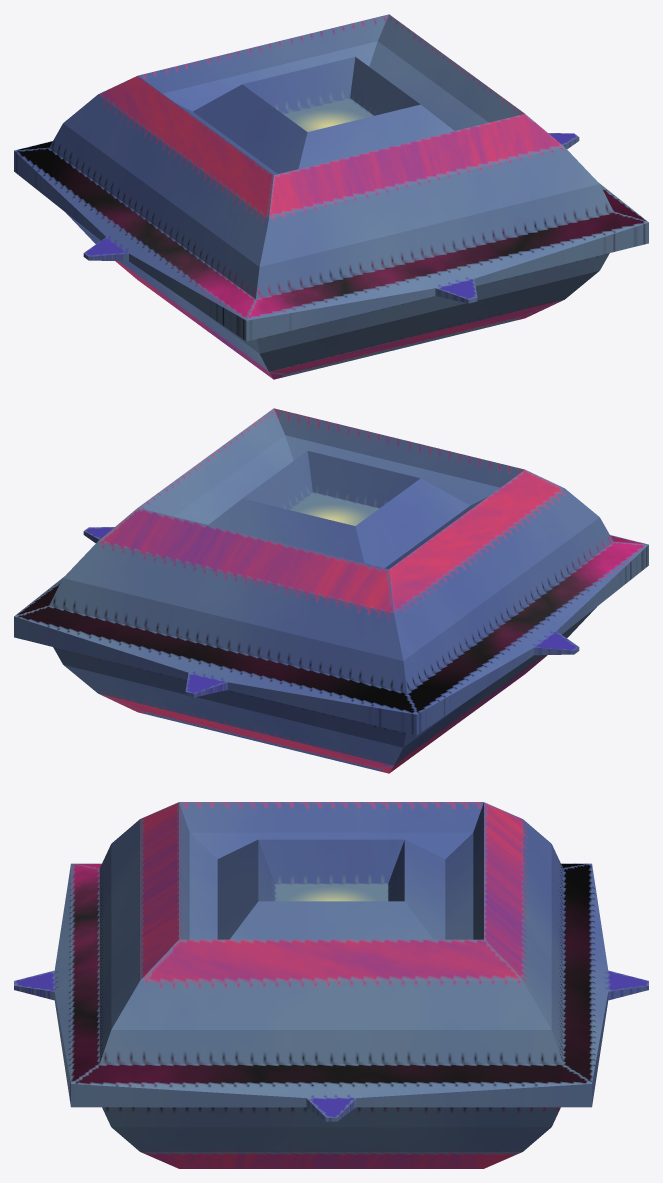
Rendered from EnemyBoss.FBX.
3 renders of one model, top to bottom at view 1: azimuth 30°, elevation 25°; view 2: azimuth 150°, elevation 25°; view 3: azimuth 270°, elevation 25°, orthographic. The views are drawn at different scales.
Parts seen in each view (by area): view 1: Box001; view 2: Box001; view 3: Box001.
Part boxes in pixels (x1,y1,x2,y2): Box001: (14, 14, 648, 379); Box001: (14, 408, 648, 773); Box001: (14, 802, 648, 1168).
Bounding box in the file's own units: 3.9 × 1.56 × 3.9.
